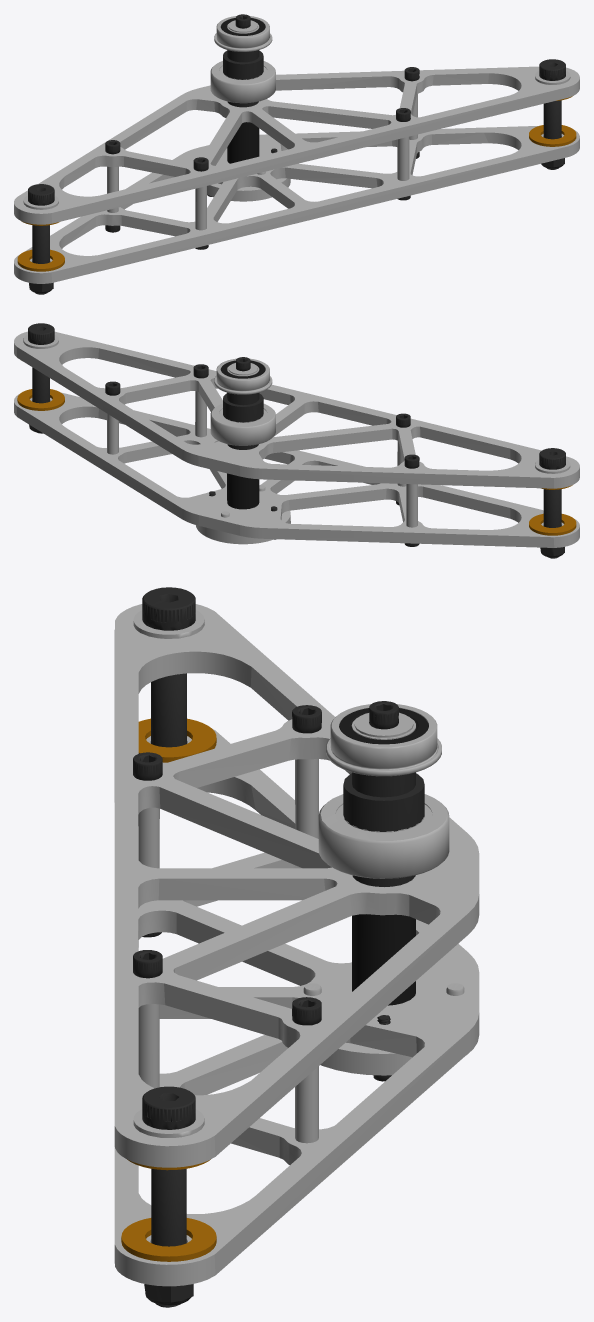
The model's file is rover_right_lambda_lower.glb.
3 views of the same model, one above another, from view 1: azimuth 30°, elevation 25°; view 2: azimuth 150°, elevation 25°; view 3: azimuth 270°, elevation 25° (orthographic). The views are drawn at different scales.
Parts seen in each view (by area): view 1: 098121_A;1-MRVR26.MOB.91251A242; view 2: 098121_A;1-MRVR26.MOB.91251A242; view 3: 098121_A;1-MRVR26.MOB.91251A242.
Part boxes in pixels (bbox=[...]): 098121_A;1-MRVR26.MOB.91251A242: bbox=[14, 14, 579, 294]; 098121_A;1-MRVR26.MOB.91251A242: bbox=[14, 323, 579, 558]; 098121_A;1-MRVR26.MOB.91251A242: bbox=[114, 587, 479, 1307].
Size of the model in its own units: 34.42 by 10.17 by 9.72.
